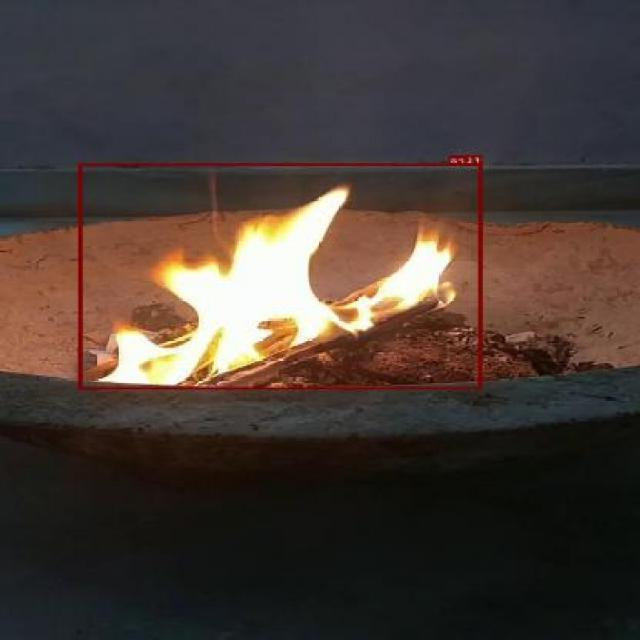Fire: (79, 163, 484, 389)
